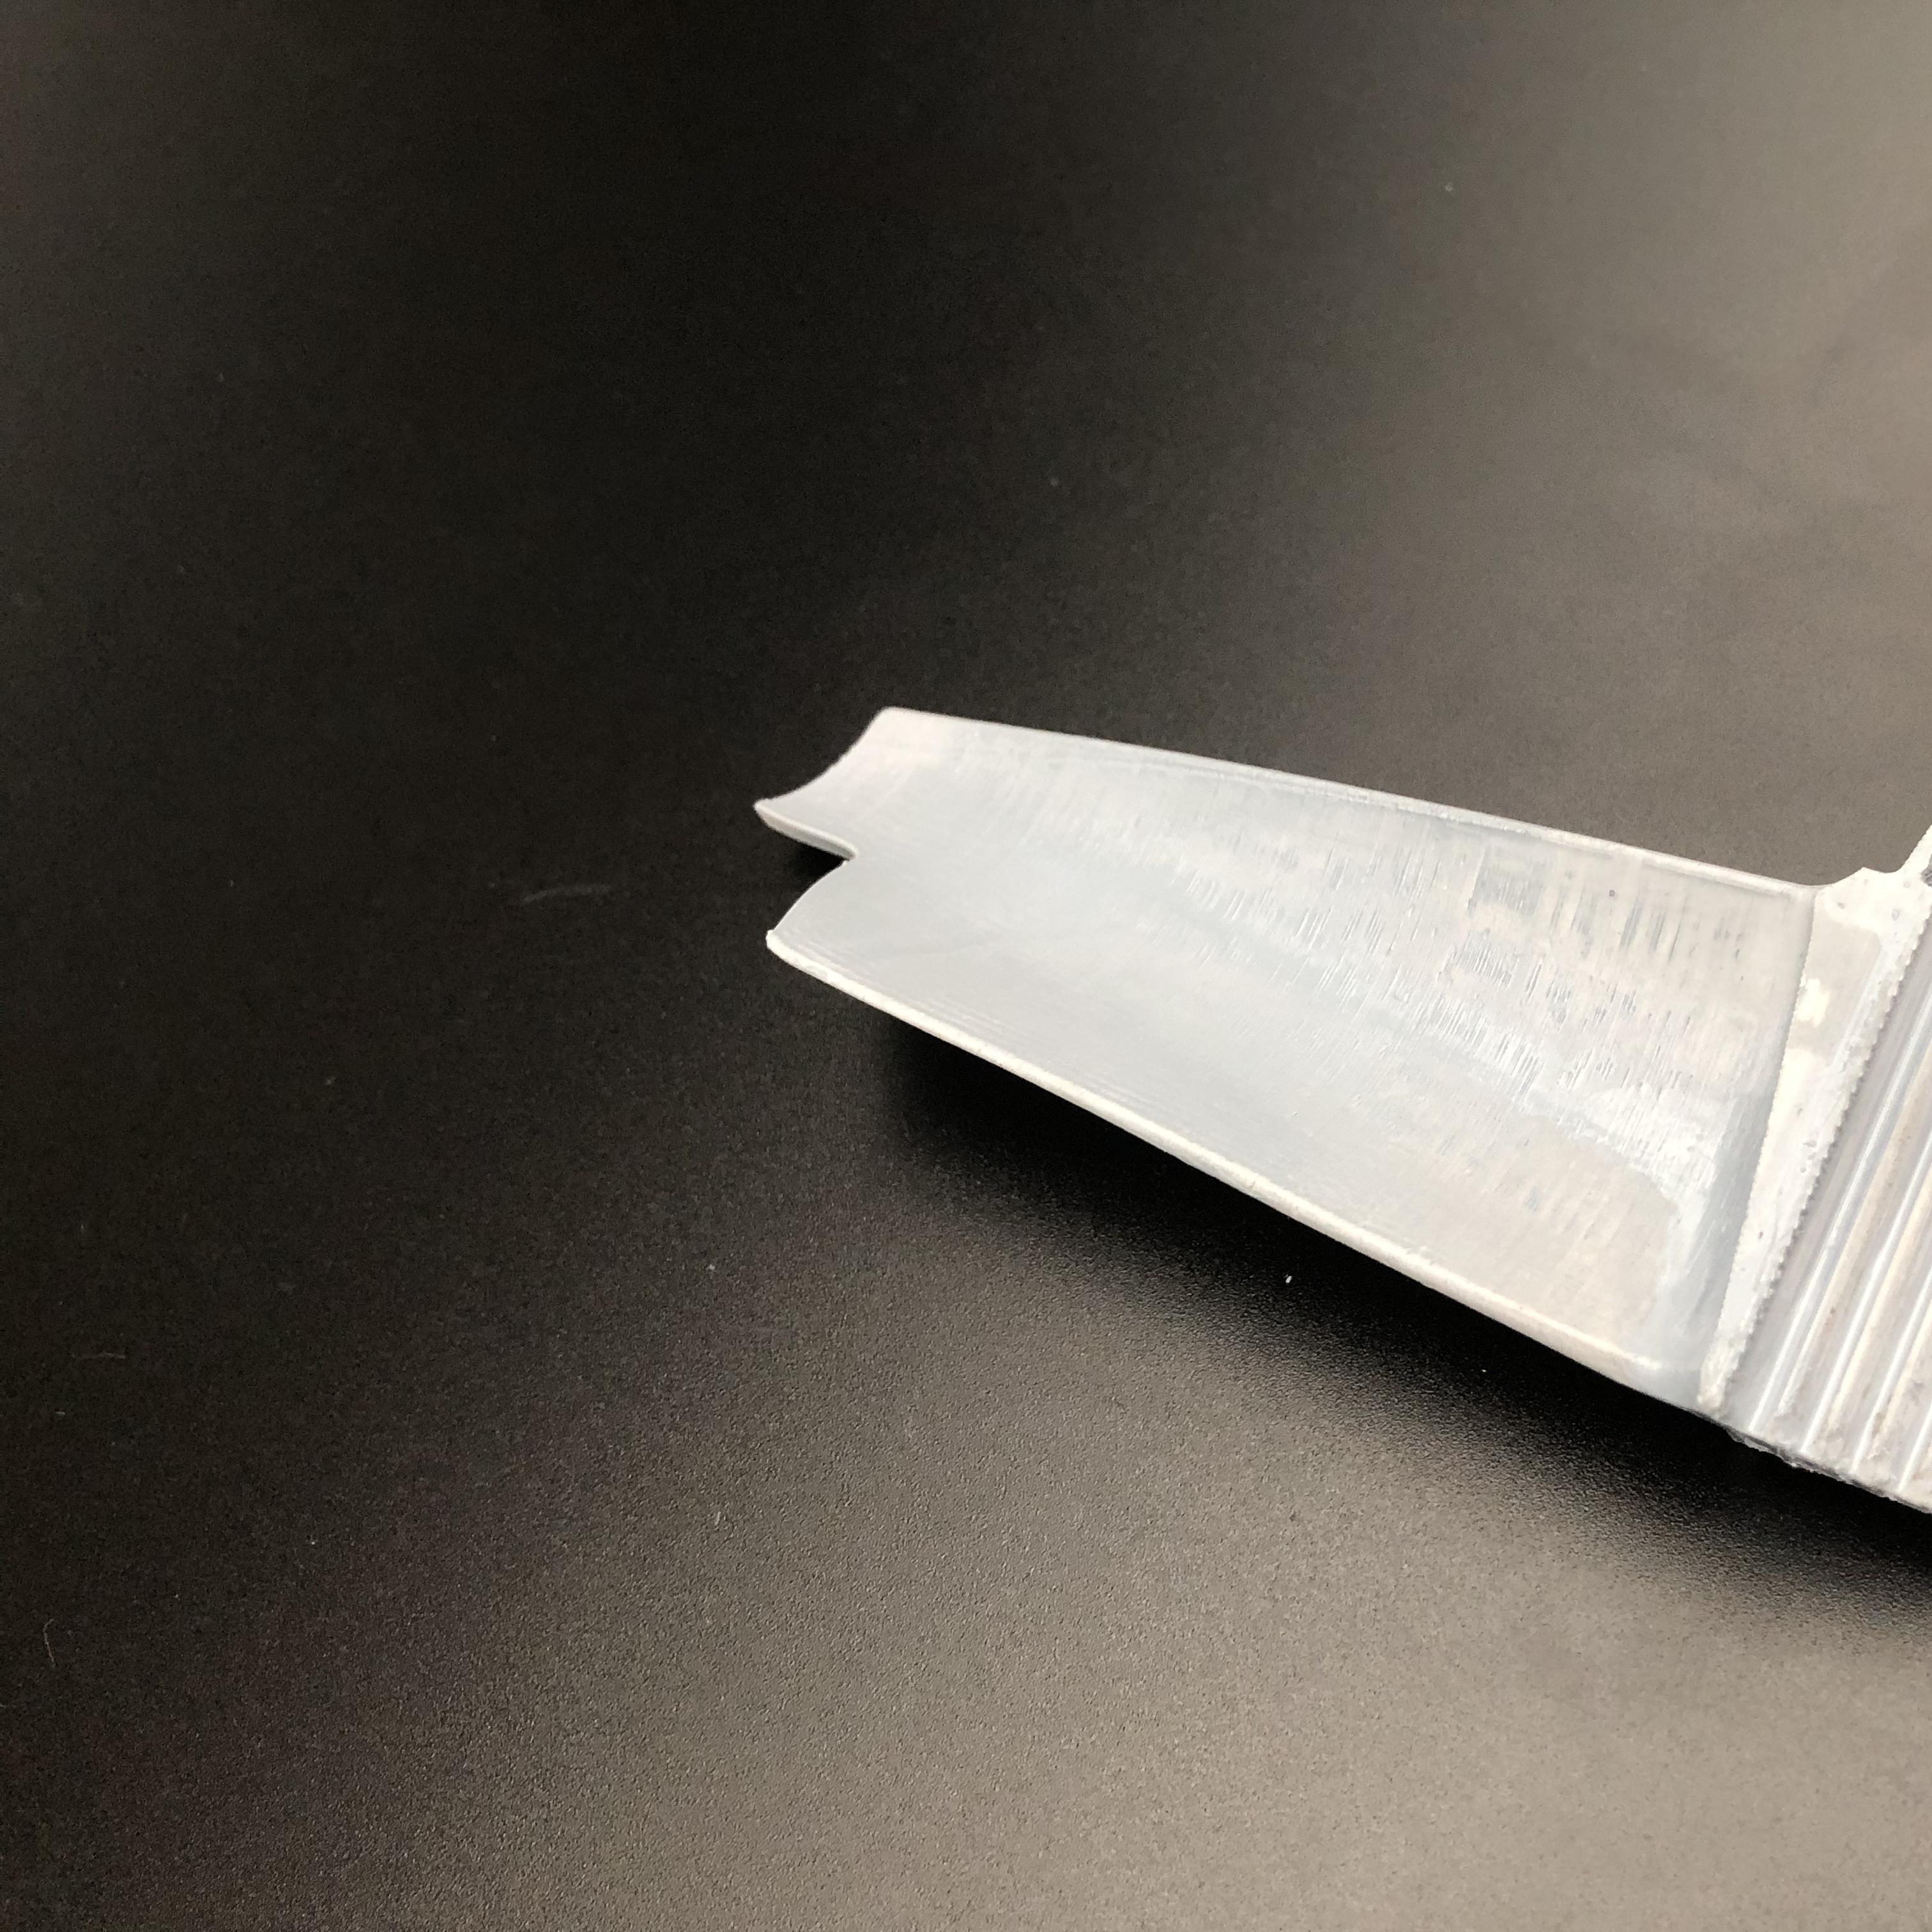fracture: (736, 798, 881, 948)
